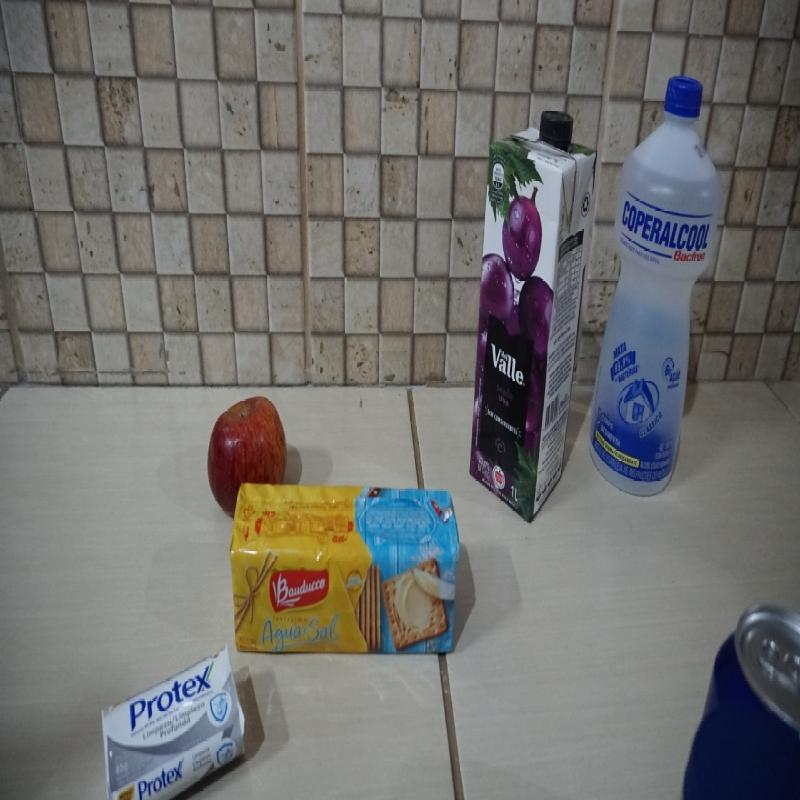Alcohol Bottle: (588, 73, 720, 498)
Apple: (207, 396, 288, 518)
Cracker: (231, 482, 460, 656)
Soap: (101, 644, 252, 800)
Soda can: (679, 603, 800, 800)
